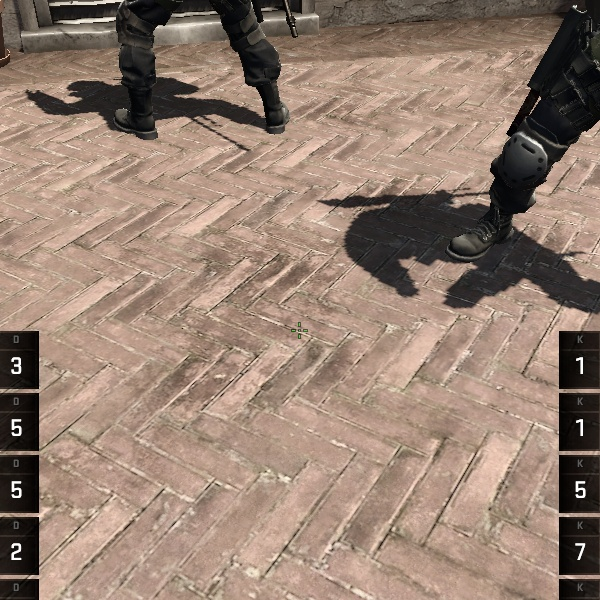ct_body: (65, 0, 327, 144)
